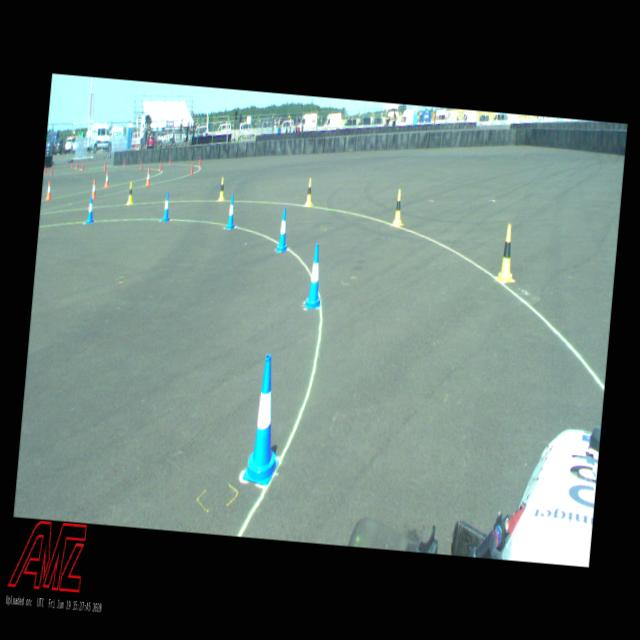blue_cone: (241, 352, 287, 488), (304, 242, 326, 309), (275, 208, 290, 252), (225, 194, 237, 230), (161, 190, 172, 222), (86, 196, 94, 224)
orange_cone: (45, 180, 53, 201), (145, 164, 151, 187), (91, 179, 97, 199), (104, 170, 110, 188)
yellow_cone: (496, 223, 518, 285), (392, 188, 404, 228), (304, 176, 314, 208), (126, 180, 134, 205), (218, 176, 225, 201)
